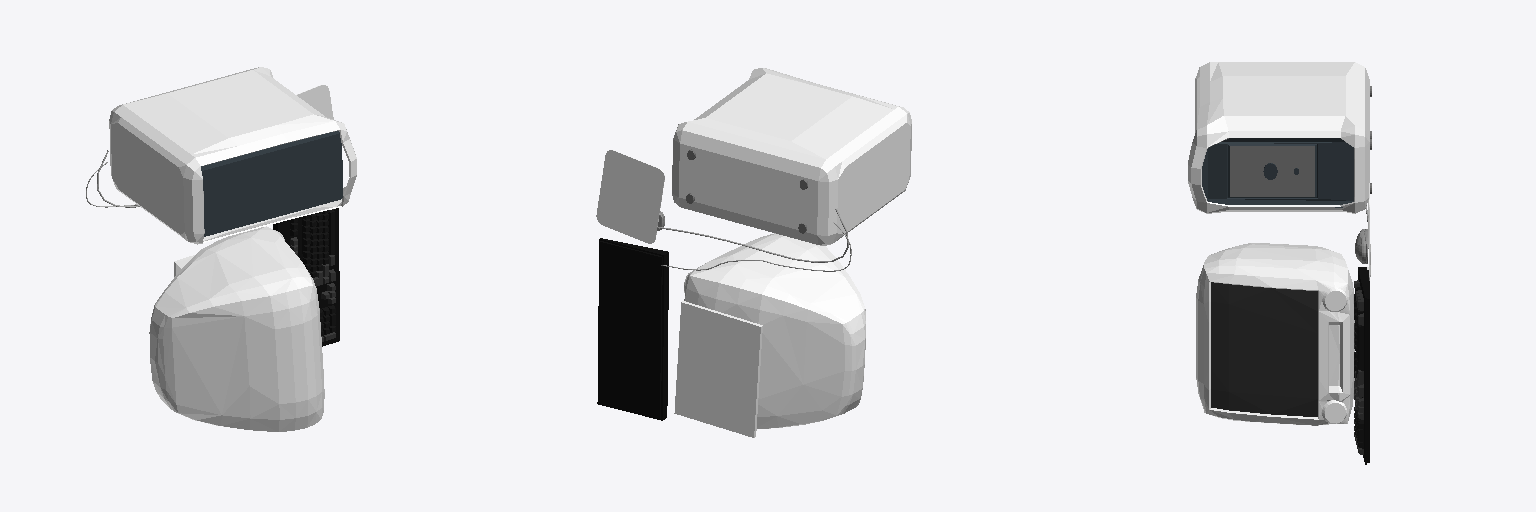
The model's file is Patt07.obj.
The picture shows the model from 3 angles: view 1: azimuth 30°, elevation 25°; view 2: azimuth 150°, elevation 25°; view 3: azimuth 270°, elevation 25°; orthographic projection.
Visible parts, largest first — view 1: cpu_mac, Box01, Keyboard, Rectangle0; view 2: Box01, cpu_mac, Keyboard, Rectangle0; view 3: Box01, cpu_mac, Keyboard.
Boxes of the visible parts, x1=… form: cpu_mac: x1=109, y1=67, x2=356, y2=244; Box01: x1=149, y1=226, x2=324, y2=431; Keyboard: x1=273, y1=208, x2=339, y2=346; Rectangle0: x1=297, y1=85, x2=333, y2=119; Box01: x1=674, y1=233, x2=865, y2=437; cpu_mac: x1=672, y1=68, x2=911, y2=245; Keyboard: x1=597, y1=238, x2=668, y2=420; Rectangle0: x1=596, y1=150, x2=664, y2=243; Box01: x1=1196, y1=243, x2=1368, y2=425; cpu_mac: x1=1188, y1=62, x2=1371, y2=213; Keyboard: x1=1354, y1=267, x2=1369, y2=464.
Bounding box in the file's own units: 0.8383 × 0.9782 × 0.529.